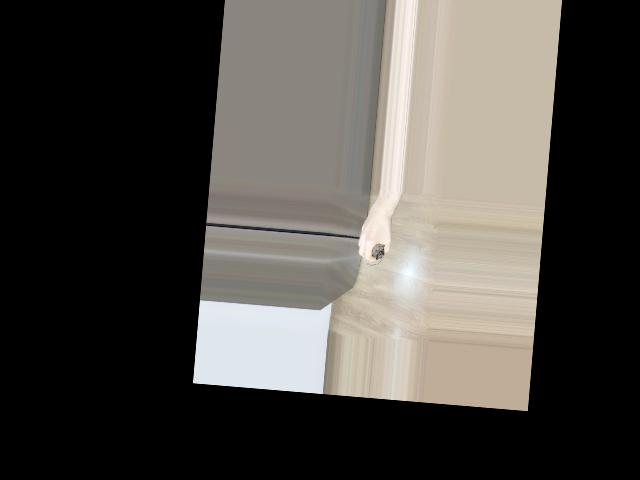beet: (366, 243, 385, 267)
